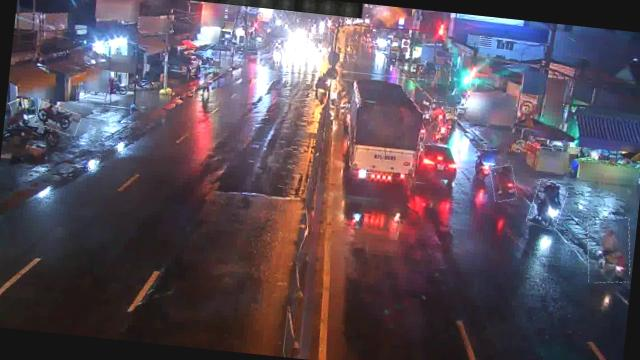Bike: (582, 216, 634, 286), (528, 180, 567, 230), (34, 104, 82, 135), (488, 163, 518, 202), (192, 80, 216, 110), (474, 148, 493, 180), (429, 100, 448, 126), (444, 106, 458, 132), (437, 120, 450, 145)
Car: (416, 143, 458, 187)
Truck: (330, 72, 426, 197)
